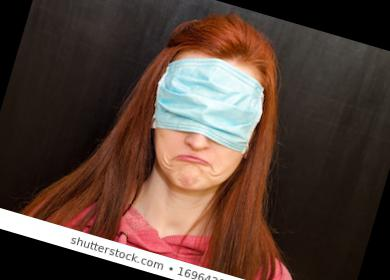mask_weared_incorrect: (138, 53, 268, 199)
